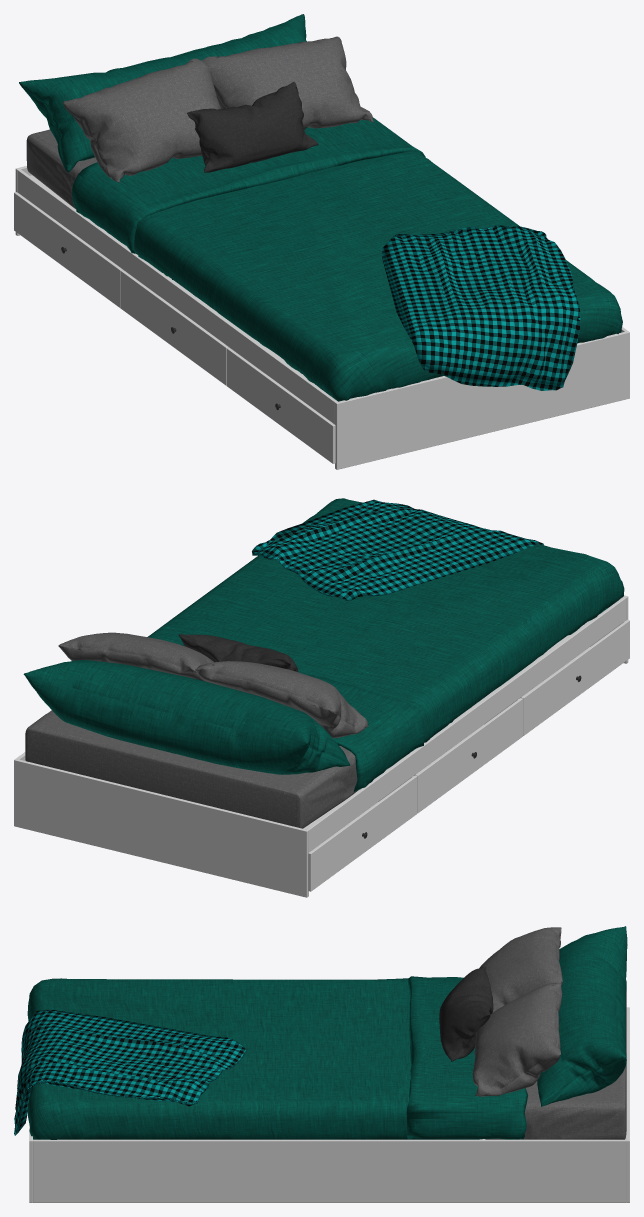
File: modern-bed-with-storage.glb
3 views of the same model, one above another, from view 1: azimuth 30°, elevation 25°; view 2: azimuth 150°, elevation 25°; view 3: azimuth 270°, elevation 25° (orthographic). The views are drawn at different scales.
Parts seen in each view (by area): view 1: sheet, blanket, bed, pillow, pillow.001, large-pillow, small-pillow, storage3, storage1, storage2, bed-sheet; view 2: sheet, bed, large-pillow, blanket, bed-sheet, pillow, storage1, storage3, storage2, pillow.001, small-pillow; view 3: sheet, bed, blanket, large-pillow, pillow.001, bed-sheet, pillow, small-pillow.
Part boxes in pixels (x1,y1,x2,y2): sheet: [72, 117, 622, 401]; blanket: [382, 225, 580, 390]; bed: [15, 166, 629, 469]; pillow: [62, 58, 220, 182]; pillow.001: [201, 36, 373, 129]; large-pillow: [19, 14, 306, 172]; small-pillow: [187, 82, 318, 172]; storage3: [226, 348, 335, 463]; storage1: [14, 192, 123, 308]; storage2: [120, 270, 229, 385]; bed-sheet: [26, 129, 97, 209]; sheet: [147, 498, 624, 791]; bed: [14, 595, 628, 897]; large-pillow: [23, 660, 350, 774]; blanket: [252, 499, 543, 600]; bed-sheet: [25, 710, 358, 828]; pillow: [195, 661, 368, 738]; storage1: [308, 775, 417, 891]; storage3: [519, 620, 629, 735]; storage2: [414, 698, 523, 813]; pillow.001: [58, 632, 213, 681]; small-pillow: [178, 634, 298, 671]; sheet: [27, 976, 527, 1139]; bed: [29, 1007, 629, 1202]; blanket: [14, 1009, 246, 1135]; large-pillow: [537, 926, 627, 1106]; pillow.001: [473, 983, 562, 1096]; bed-sheet: [485, 990, 626, 1139]; pillow: [479, 927, 562, 1012]; small-pillow: [439, 967, 493, 1061].
Size of the model in its own units: 1.08 by 0.5868 by 2.04.
7 materials, 5 textured.
